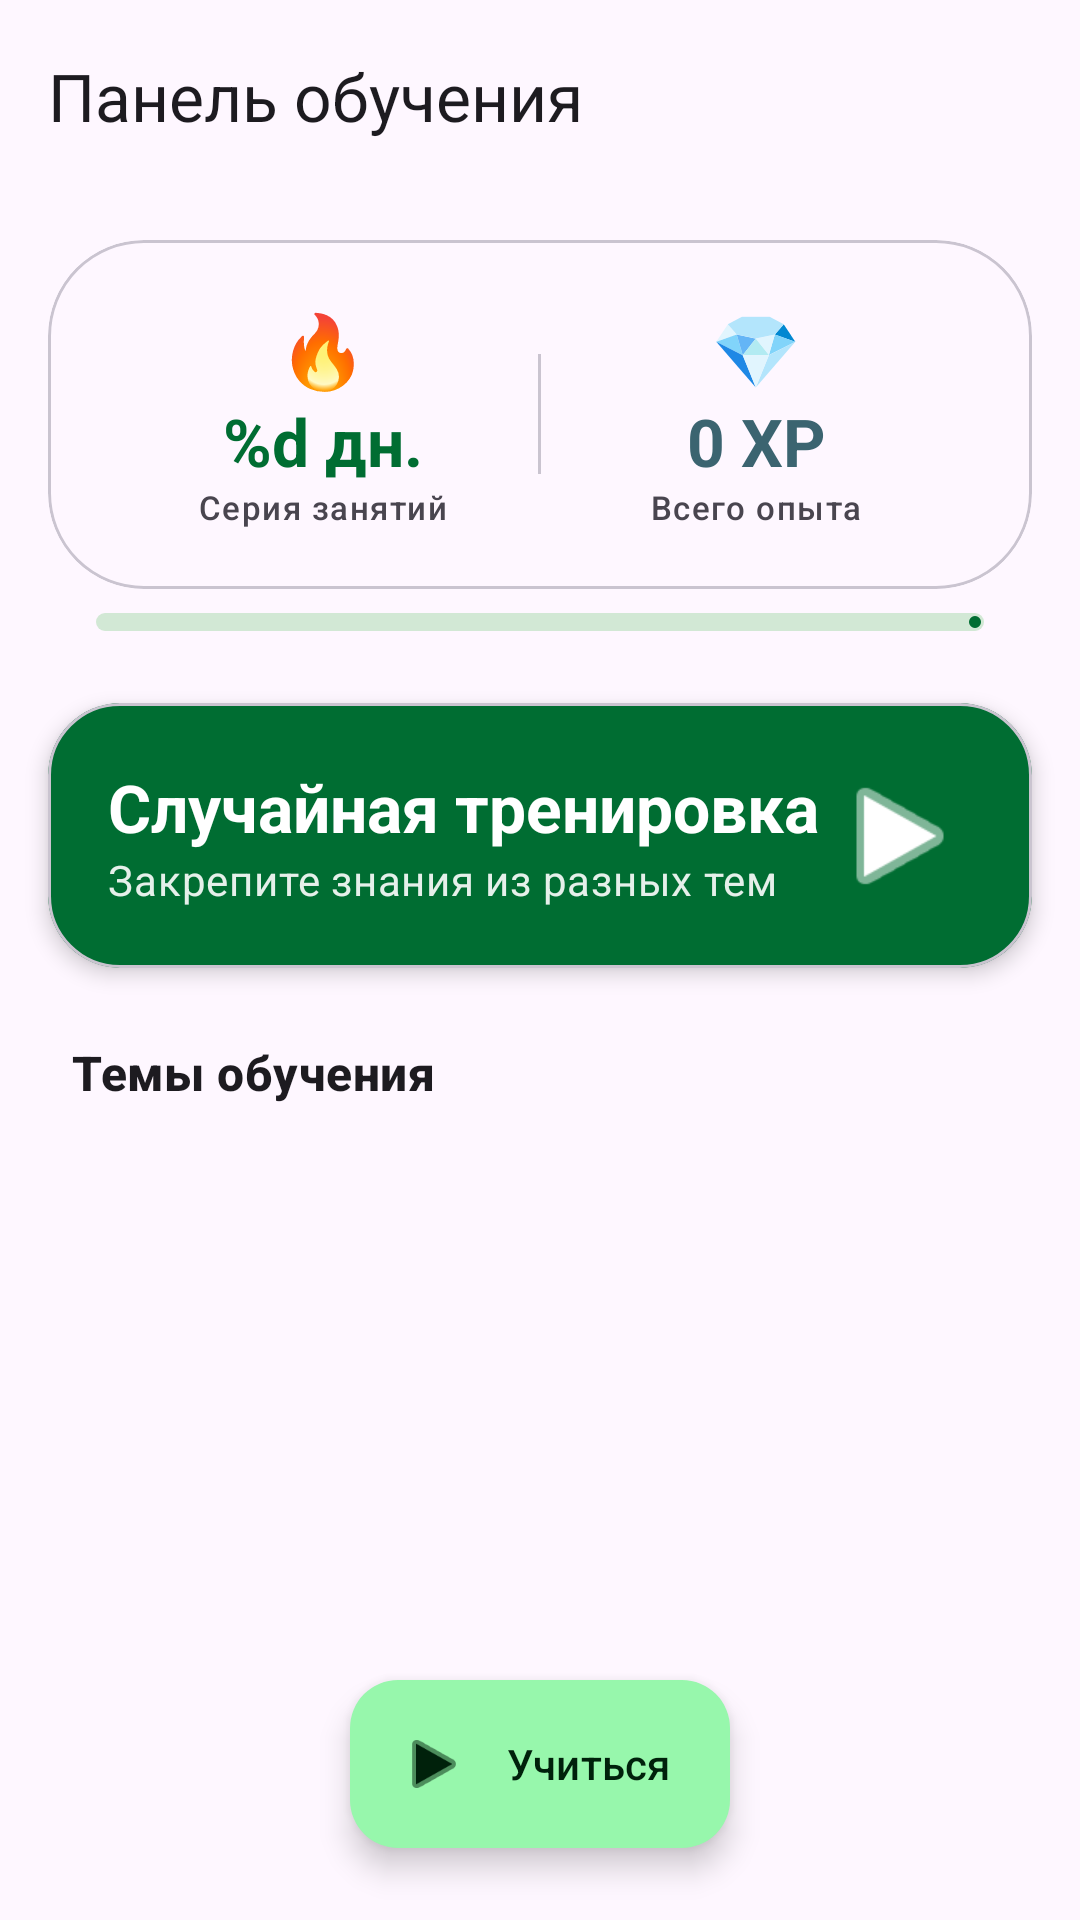

Icons on this 1080x1920 Android screen, each with the point to tap as (x,y):
play: (900,836)
